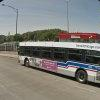buses: (17, 42, 100, 82)
